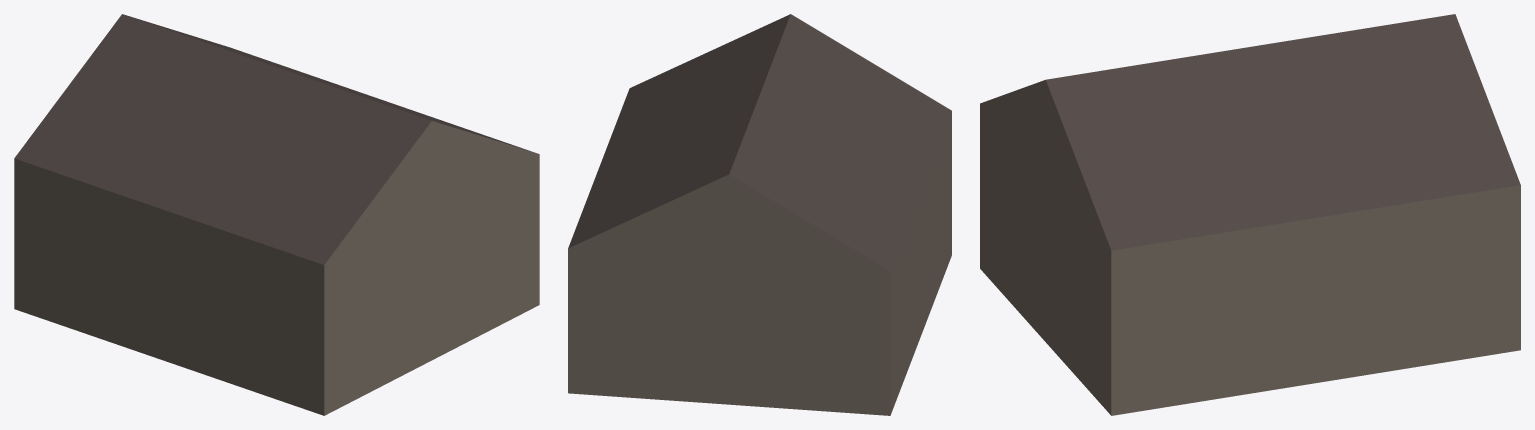
The picture shows the model from 3 angles, left to right: view 1: azimuth 30°, elevation 25°; view 2: azimuth 150°, elevation 25°; view 3: azimuth 270°, elevation 25°; orthographic projection. The views are drawn at different scales.
Parts seen in each view (by area): view 1: HP-w1376988782; view 2: HP-w1376988782; view 3: HP-w1376988782.
Part boxes in pixels (<box>): HP-w1376988782: <box>14,14,539,415</box>; HP-w1376988782: <box>568,14,951,415</box>; HP-w1376988782: <box>980,14,1520,415</box>.
Bounding box in the file's own units: 16.6 × 9.54 × 17.81.
